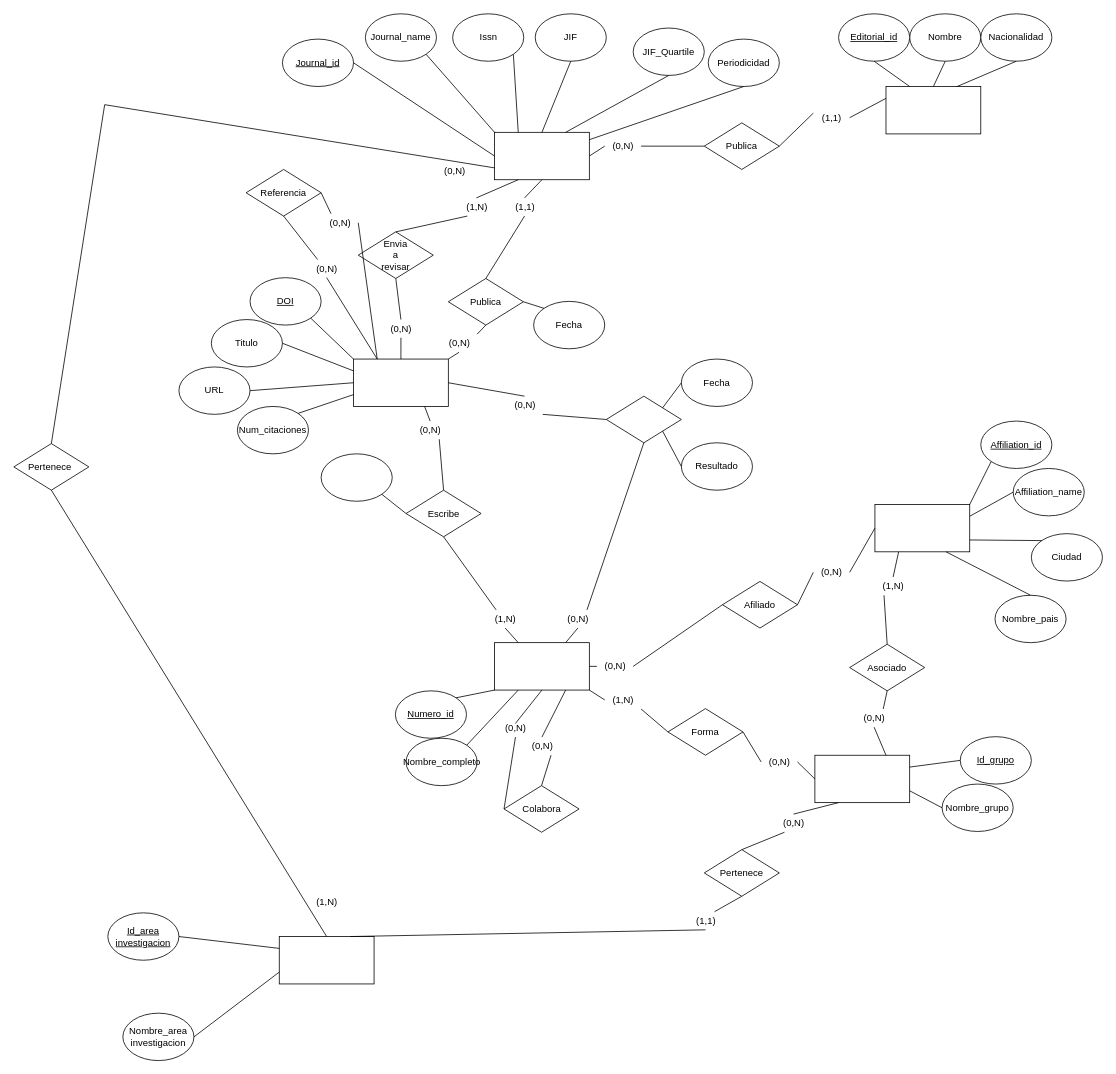
This 1116x1074 diagram has some shape labels left out. The shapes that lost their labels are listed below. From the top down, each one's centre as x and y in pixels, then its label:
At pixel 933 110: "EDITORIAL".
At pixel 541 156: "REVISTA".
At pixel 400 382: "ARTICULO".
At pixel 643 419: "Revisa".
At pixel 356 477: "Firma".
At pixel 922 528: "ENTIDAD/ EMPRESA".
At pixel 541 666: "Profesional".
At pixel 862 778: "GRUPO DE TRABAJO".
At pixel 326 960: "AREA DE INVESTIGACION".
